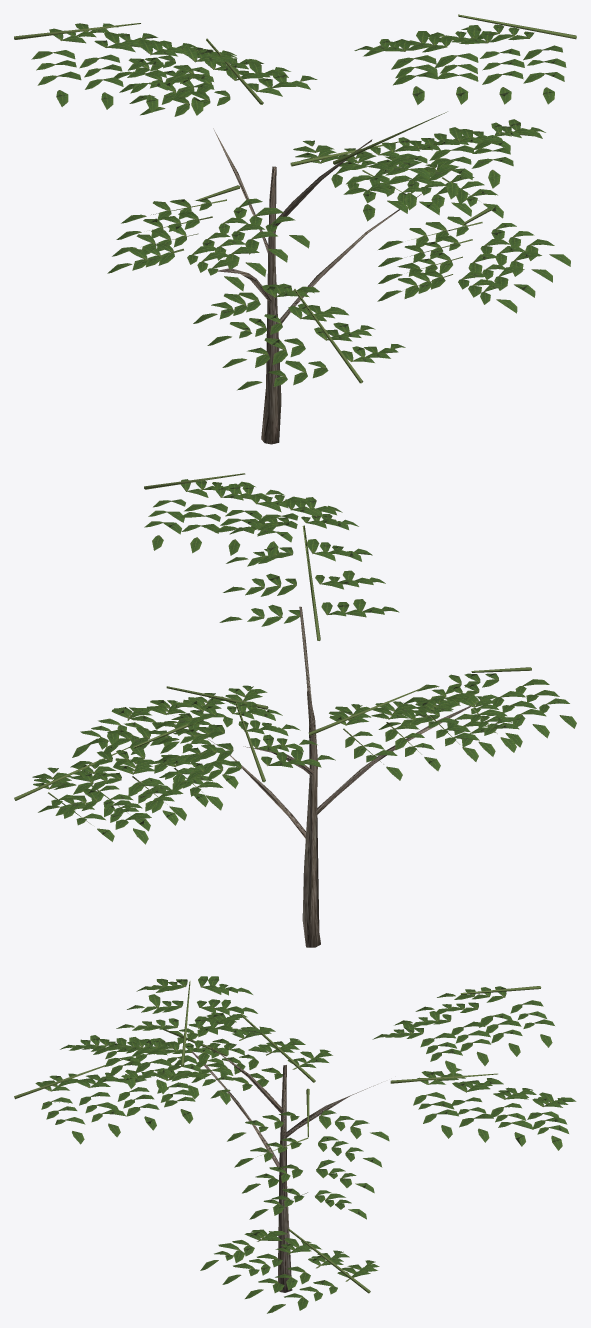
File: koelreuteria-1-lite.glb
The picture shows the model from 3 angles, top to bottom: view 1: azimuth 30°, elevation 25°; view 2: azimuth 150°, elevation 25°; view 3: azimuth 270°, elevation 25°; orthographic projection. The views are drawn at different scales.
Parts seen in each view (by area): view 1: leaf, bark, leaf-edge, rachis; view 2: leaf, bark, leaf-edge, rachis; view 3: leaf, bark, leaf-edge, rachis.
Boxes of the visible parts, box(x1,y1,x2,y2) form: leaf: box(31, 23, 570, 390); bark: box(213, 128, 422, 444); leaf-edge: box(38, 24, 562, 387); rachis: box(14, 14, 576, 383); leaf: box(33, 479, 576, 844); bark: box(198, 606, 477, 947); leaf-edge: box(32, 482, 567, 839); rachis: box(14, 473, 531, 824); leaf: box(35, 976, 576, 1313); bark: box(177, 1036, 381, 1292); leaf-edge: box(43, 978, 565, 1297); rachis: box(14, 981, 541, 1293).
Bounding box in the file's own units: 0.3965 × 0.3424 × 0.4826.
4 materials, 3 textured.
